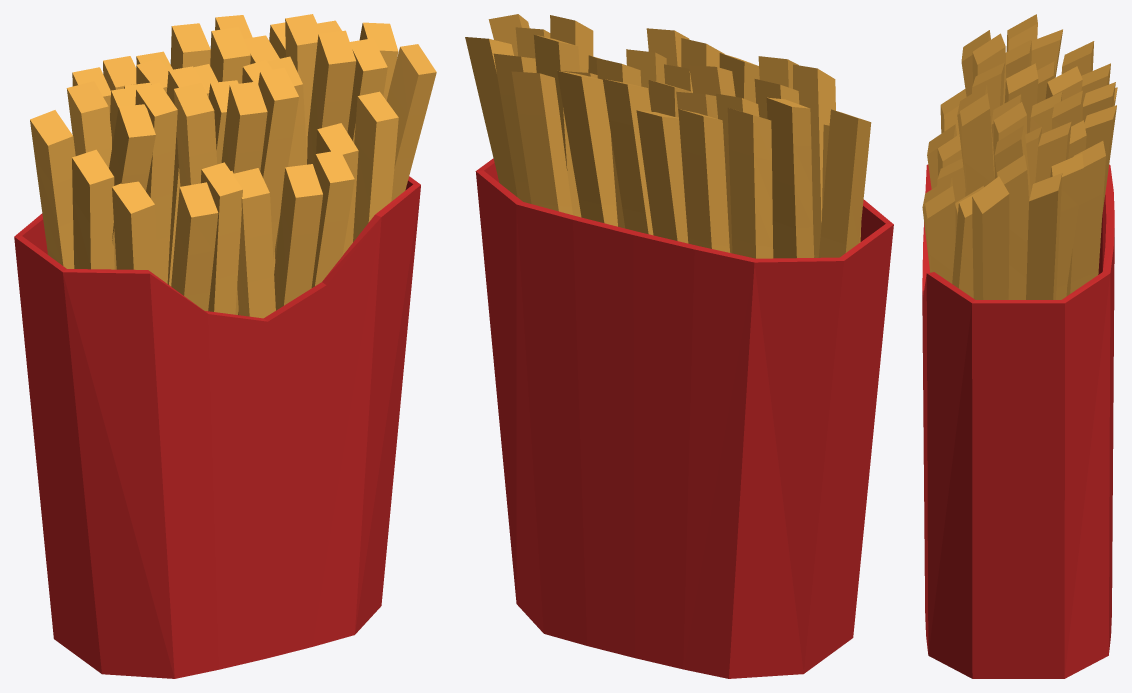
File: french_fries_from_poly_by_google.glb
3 renders of one model, left to right at view 1: azimuth 30°, elevation 25°; view 2: azimuth 150°, elevation 25°; view 3: azimuth 270°, elevation 25°, orthographic. The views are drawn at different scales.
Visible parts, largest first — view 1: Object_5, Object_4; view 2: Object_5, Object_4; view 3: Object_5, Object_4.
Part boxes in pixels (left/top/right/bottom): Object_5: left=14, top=176, right=420, bottom=678; Object_4: left=30, top=14, right=436, bottom=318; Object_5: left=475, top=158, right=893, bottom=678; Object_4: left=465, top=14, right=871, bottom=258; Object_5: left=922, top=164, right=1114, bottom=678; Object_4: left=922, top=14, right=1117, bottom=299.
Bounding box in the file's own units: 1.1 × 1.55 × 0.5106.
